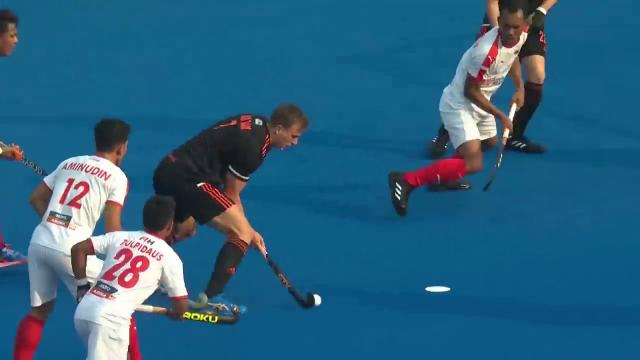ball: (302, 292, 329, 316)
